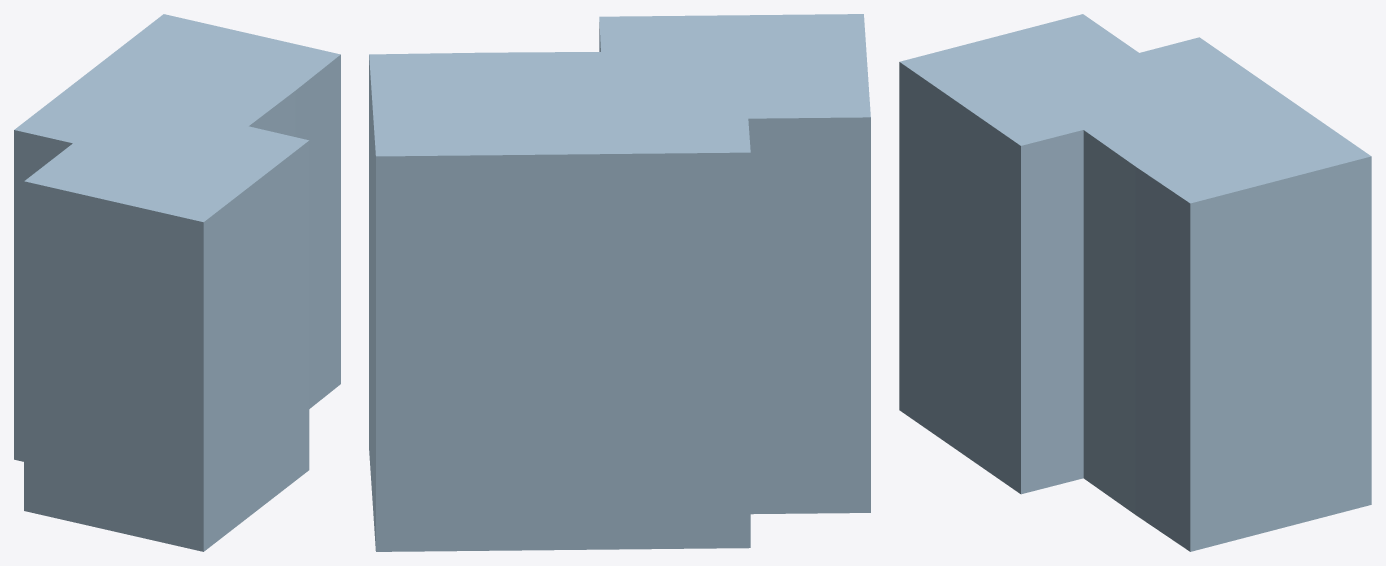
File: osm_way_225242515.glb
3 views of the same model, side by side, from view 1: azimuth 30°, elevation 25°; view 2: azimuth 150°, elevation 25°; view 3: azimuth 270°, elevation 25° (orthographic). The views are drawn at different scales.
Visible parts, largest first — view 1: osm_way_225242515; view 2: osm_way_225242515; view 3: osm_way_225242515.
Boxes of the visible parts, <box> form: osm_way_225242515: <box>14,14,340,551</box>; osm_way_225242515: <box>369,14,870,551</box>; osm_way_225242515: <box>899,14,1371,551</box>.
Size of the model in its own units: 22.4 by 19.2 by 23.58.
